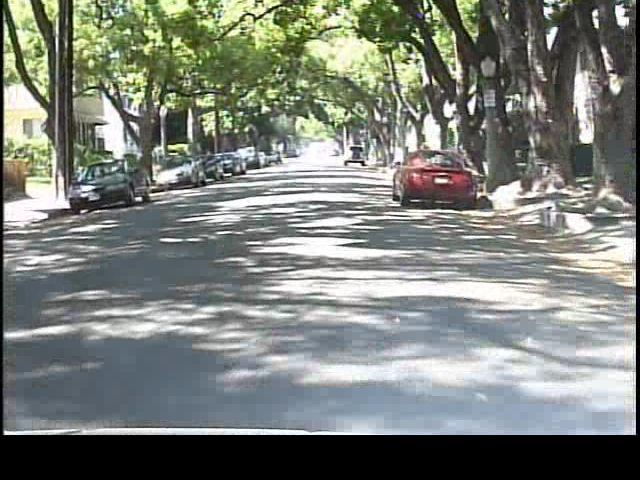person: (141, 144, 162, 185)
